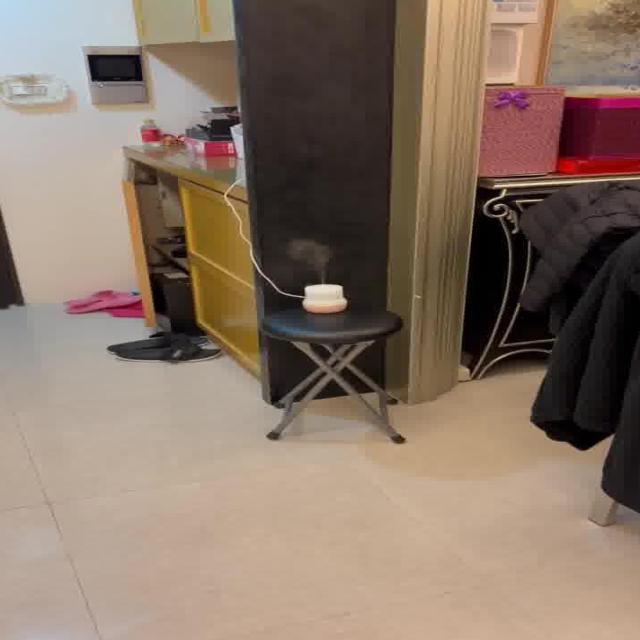fire: (286, 234, 343, 280)
